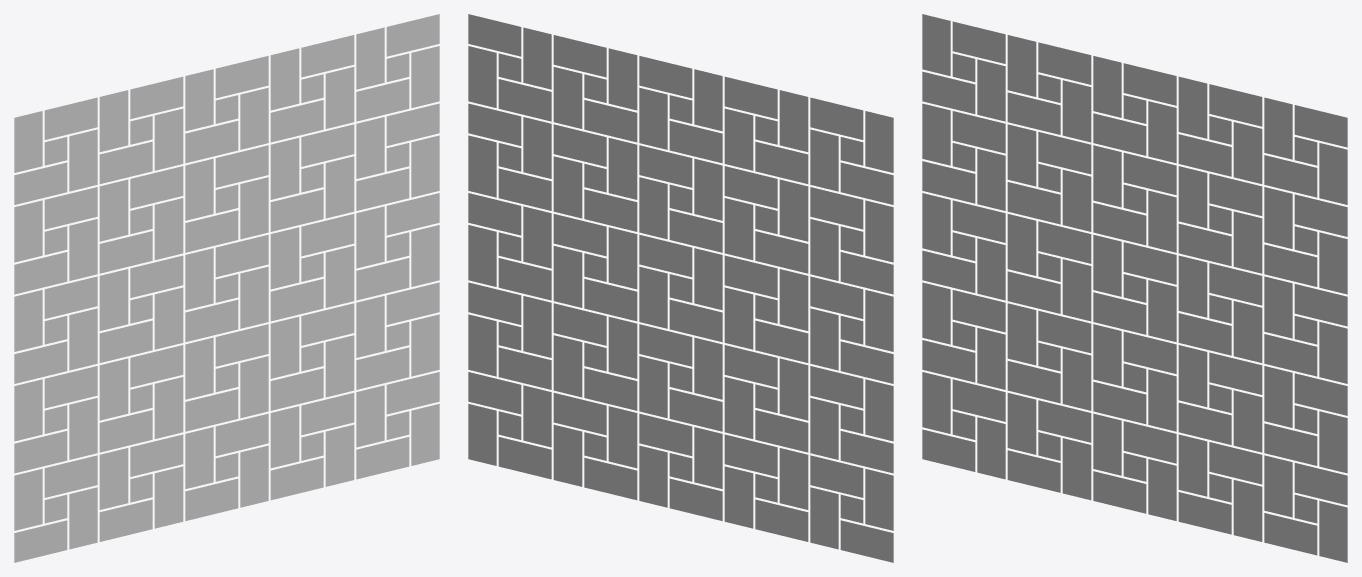
Rendered from targetmosaic.gltf.
3 views of the same model, side by side, from view 1: azimuth 30°, elevation 25°; view 2: azimuth 150°, elevation 25°; view 3: azimuth 330°, elevation 25° (orthographic).
Visible parts, largest first — view 1: streetpla; view 2: streetpla; view 3: streetpla.
Boxes of the visible parts, x1,y1,x2,y2 form: streetpla: (14, 14, 439, 562); streetpla: (468, 14, 893, 562); streetpla: (922, 14, 1347, 562).
Size of the model in its own units: 0.3318 by 0.3317 by 0.
Materials: 125 (125 with a texture image).
